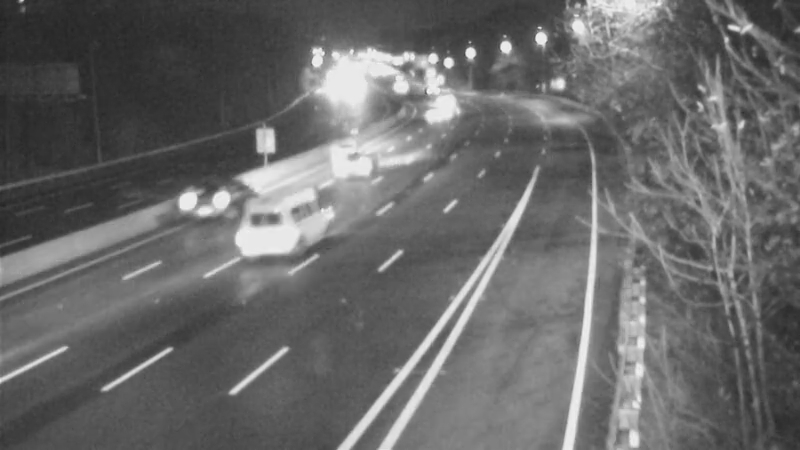vehicle: (318, 127, 398, 207), (169, 154, 249, 234), (223, 185, 303, 265), (412, 85, 462, 135), (317, 122, 367, 172)
